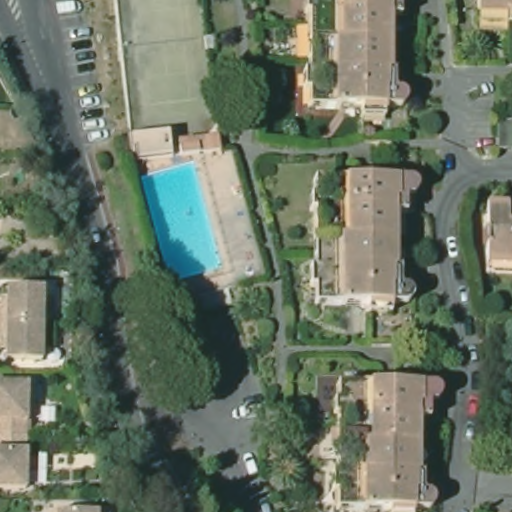pool: (135, 157, 221, 280)
